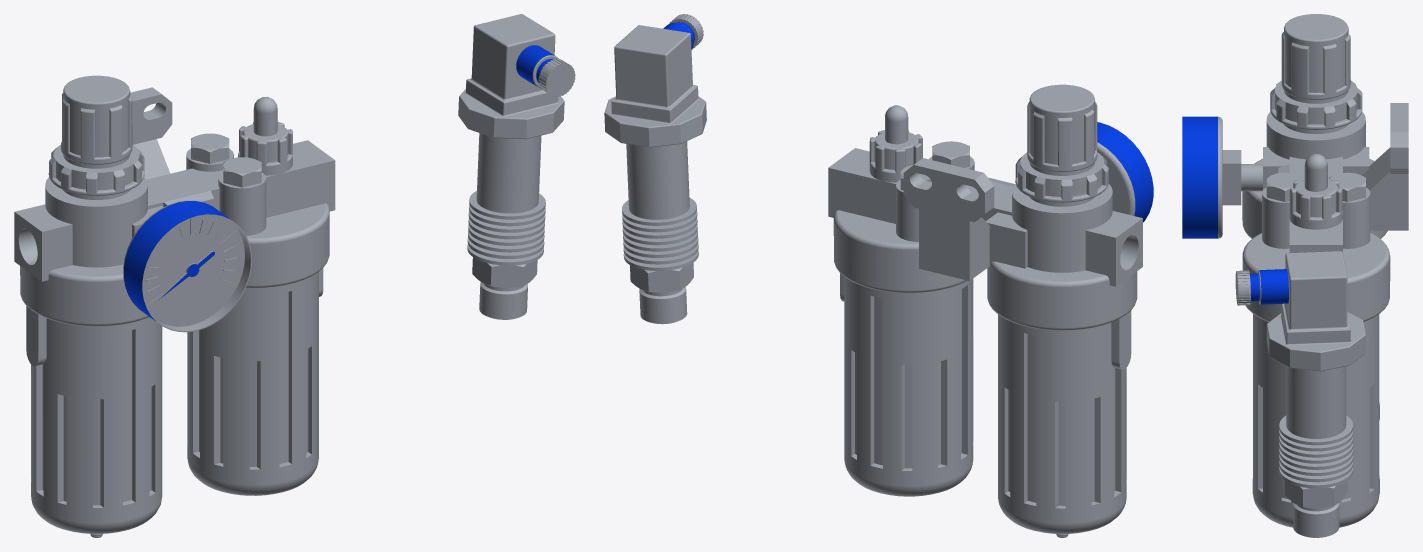
The model's file is bfc系列空气过滤组 (2).obj.
The picture shows the model from 3 angles, left to right: view 1: azimuth 30°, elevation 25°; view 2: azimuth 150°, elevation 25°; view 3: azimuth 270°, elevation 25°; orthographic projection. The views are drawn at different scales.
Visible parts, largest first — view 1: NONE, ______3; view 2: NONE, ______3; view 3: NONE, ______3.
Boxes of the visible parts, box(x1,y1,x2,y2) form: NONE: box(14, 75, 335, 537); ______3: box(458, 14, 575, 319); NONE: box(828, 84, 1153, 537); ______3: box(604, 14, 706, 324); NONE: box(1182, 14, 1408, 527); ______3: box(1235, 251, 1365, 537).
Size of the model in its own units: 255 by 206 by 98.
